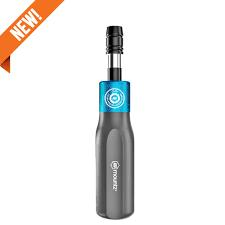screwdriver: (94, 25, 133, 219)
